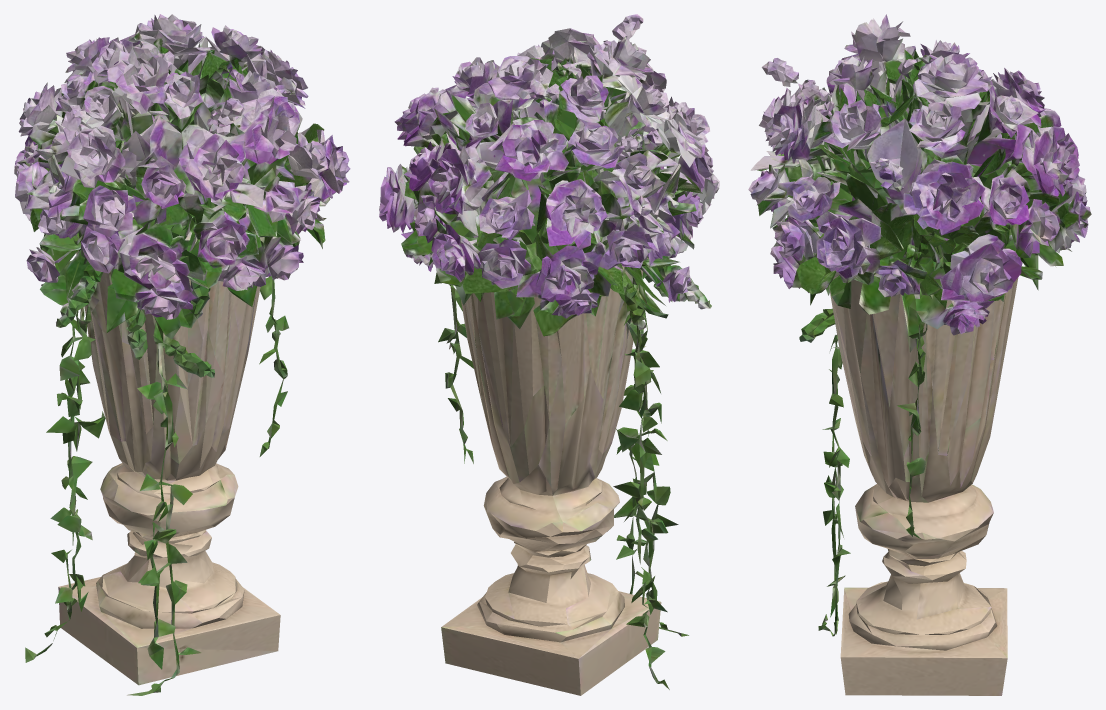
The model's file is terracoUrn-medio.glb.
3 views of the same model, side by side, from view 1: azimuth 30°, elevation 25°; view 2: azimuth 150°, elevation 25°; view 3: azimuth 270°, elevation 25° (orthographic).
Bounding box in the file's own units: 0.8555 × 1.79 × 0.8985.
1 material, 1 textured.
